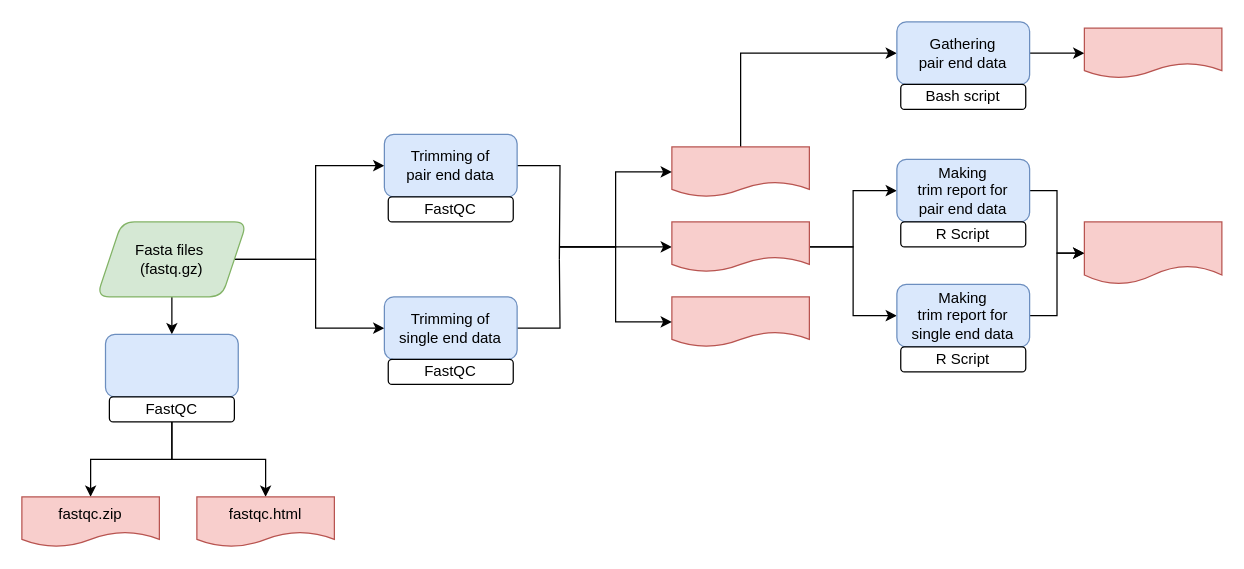
This 1244x569 diagram has some shape labels left out. Each missing label, with the centre of its shape:
all_samples trim_report.pdf: [1152,252]
allreads.fastq: [1152,52]
fastqc.gz files: [740,171]
Quality assessment: [171,365]
trimlog.txt: [740,321]
trimreport.txt: [740,246]
